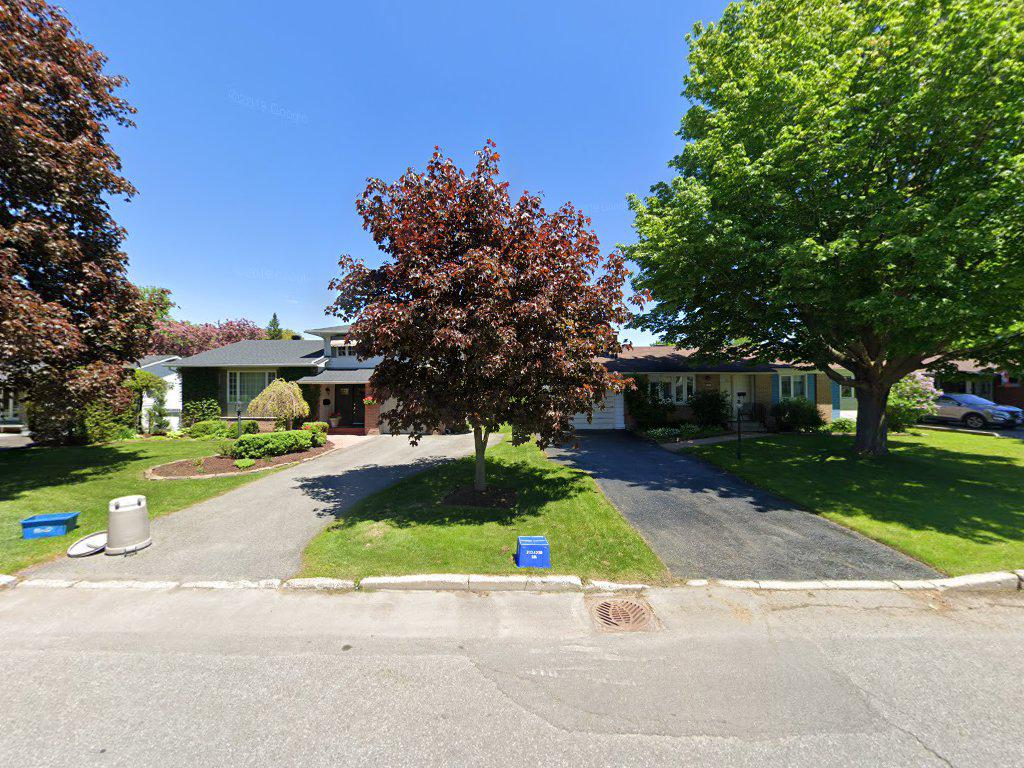trunk: (843, 329, 904, 479), (466, 411, 489, 496)
